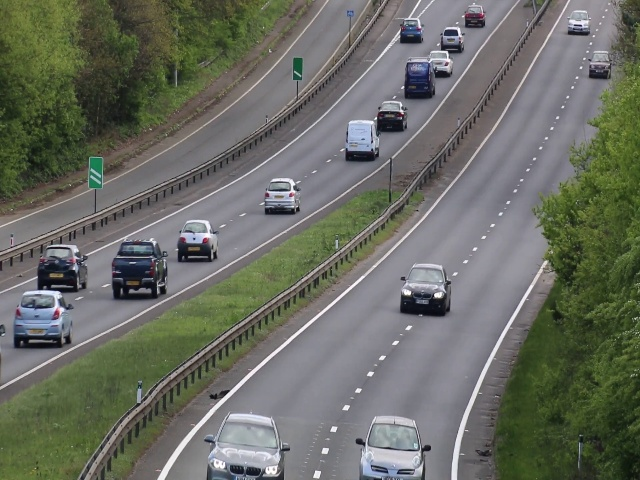car: (204, 414, 286, 480), (356, 413, 428, 480), (11, 290, 75, 345), (112, 237, 167, 298), (400, 260, 450, 314), (37, 243, 88, 291), (177, 220, 218, 259), (344, 118, 381, 160), (264, 174, 301, 213), (404, 57, 436, 97), (378, 99, 407, 131), (589, 50, 611, 81), (399, 17, 424, 44), (566, 8, 590, 36), (430, 49, 454, 76), (441, 26, 462, 51), (464, 6, 486, 26)
